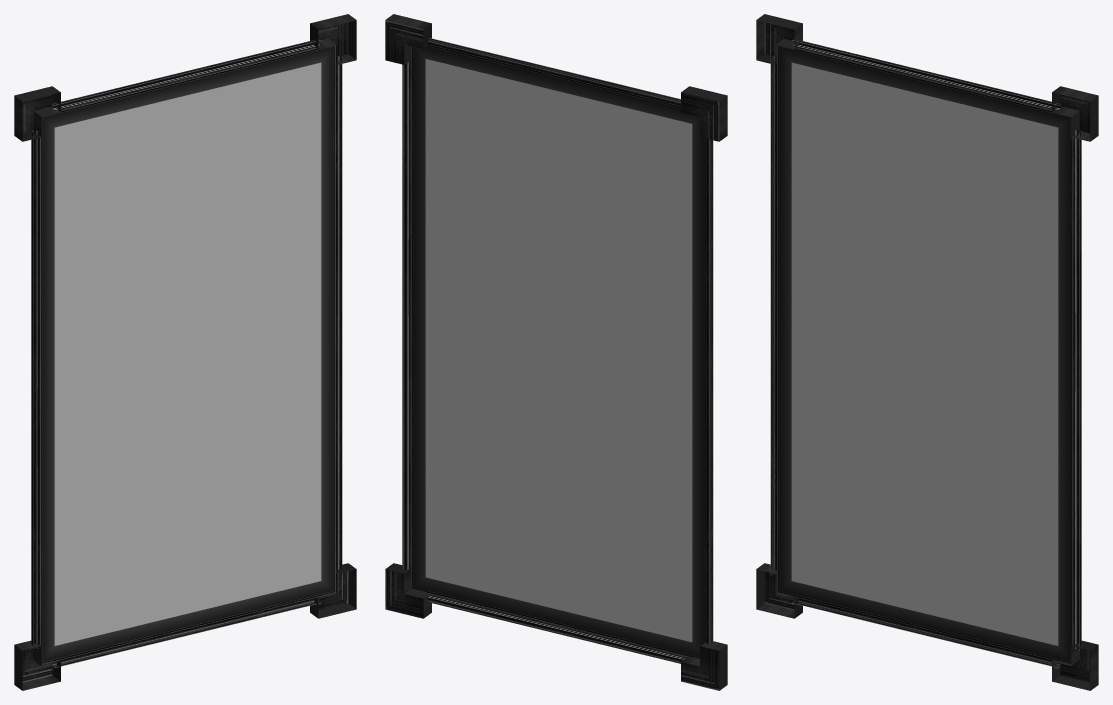
Rendered from Canvas_fix_007.fbx.
3 views of the same model, side by side, from view 1: azimuth 30°, elevation 25°; view 2: azimuth 150°, elevation 25°; view 3: azimuth 330°, elevation 25° (orthographic).
Parts seen in each view (by area): view 1: BlueChip_Interior.074; view 2: BlueChip_Interior.074; view 3: BlueChip_Interior.074.
Boxes of the visible parts, <box> form: BlueChip_Interior.074: <box>14,14,356,690</box>; BlueChip_Interior.074: <box>385,14,727,690</box>; BlueChip_Interior.074: <box>756,14,1098,690</box>.
Bounding box in the file's own units: 131 × 220 × 5.71.
